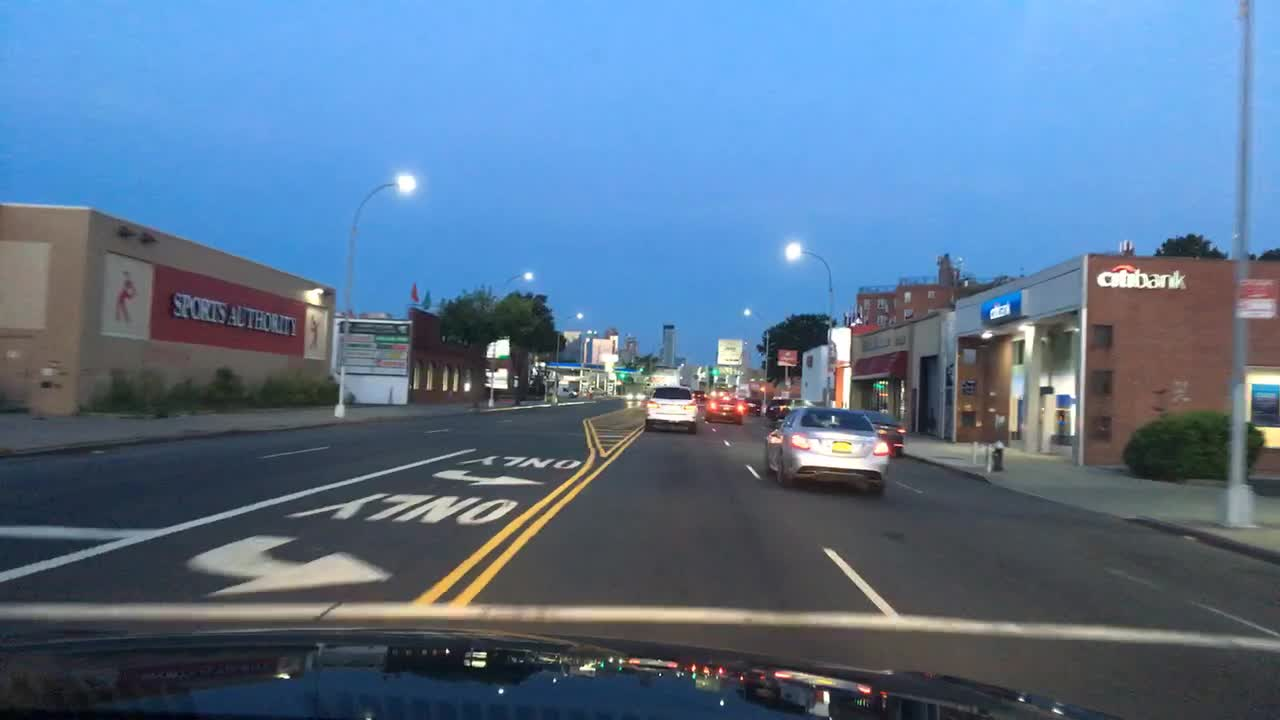car: (763, 405, 890, 494), (644, 384, 697, 432), (864, 408, 907, 457), (705, 399, 743, 421), (768, 399, 812, 417), (745, 397, 761, 412), (693, 387, 705, 403), (626, 390, 647, 399), (555, 387, 578, 395), (711, 387, 728, 397)
traffic light: (589, 385, 607, 396), (711, 368, 723, 376)
traffic sign: (1238, 280, 1274, 317)
